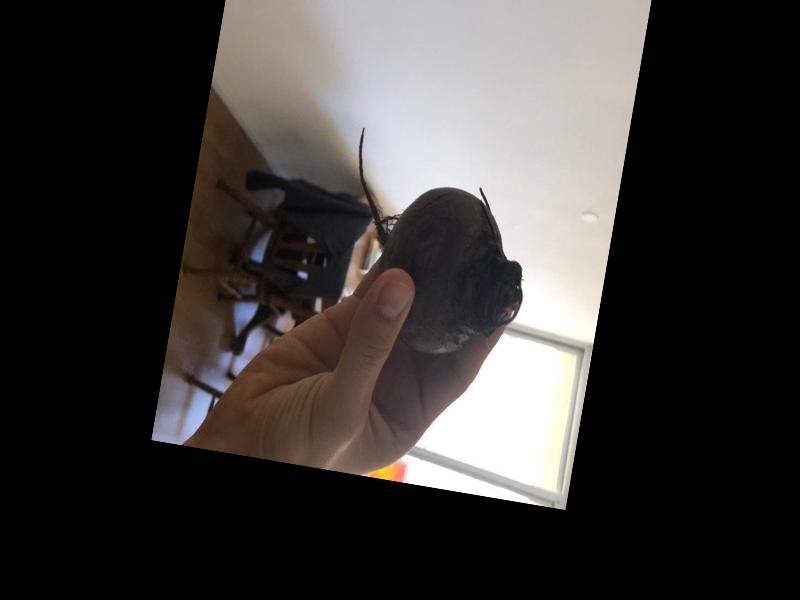Beet: (327, 125, 546, 366)
